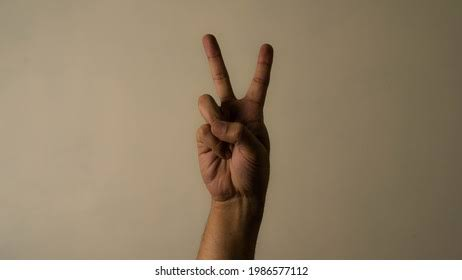peace_sign: (186, 27, 284, 202)
